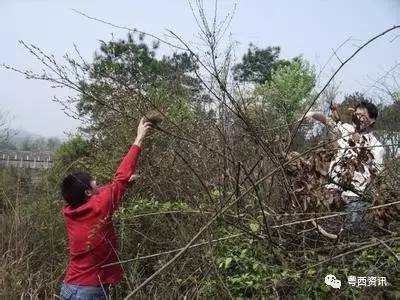bird-nest: (139, 110, 161, 124)
